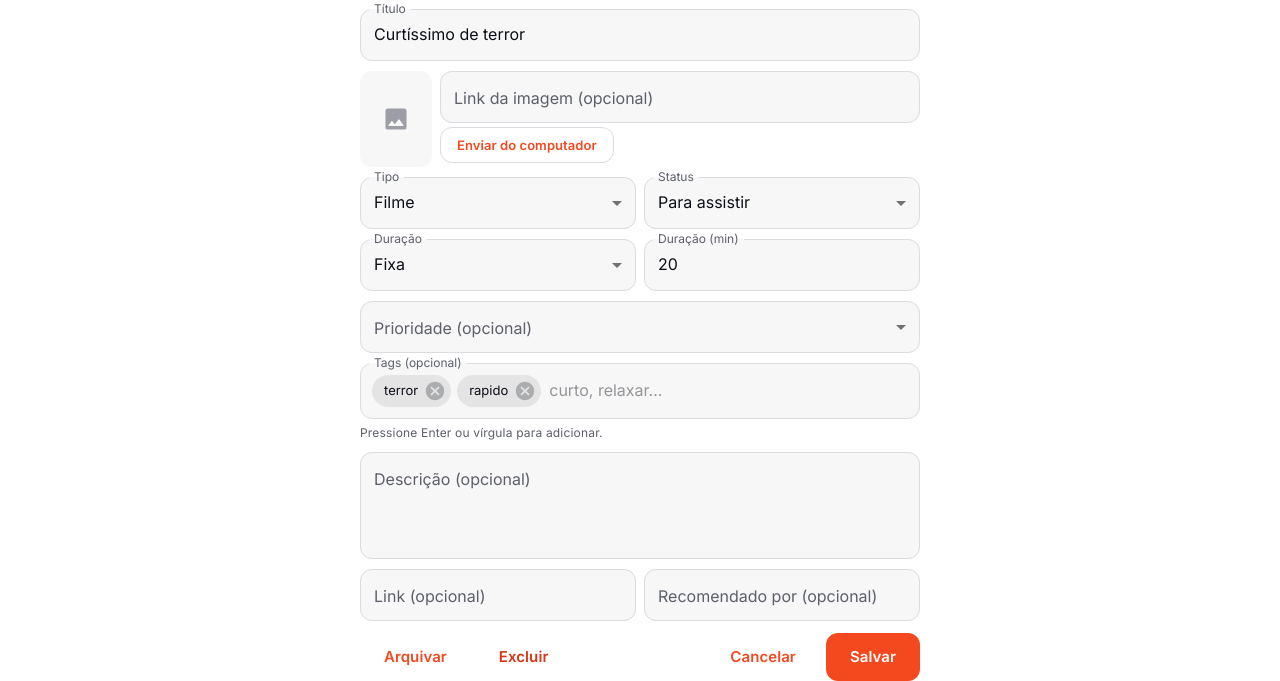
Test case: LeisureItemEditPage › does nothing when the confirmation is cancelled
(page scrolled)
Step 1. Click the button "Excluir" → (524, 657), box x1=475 y1=633 x2=572 y2=680
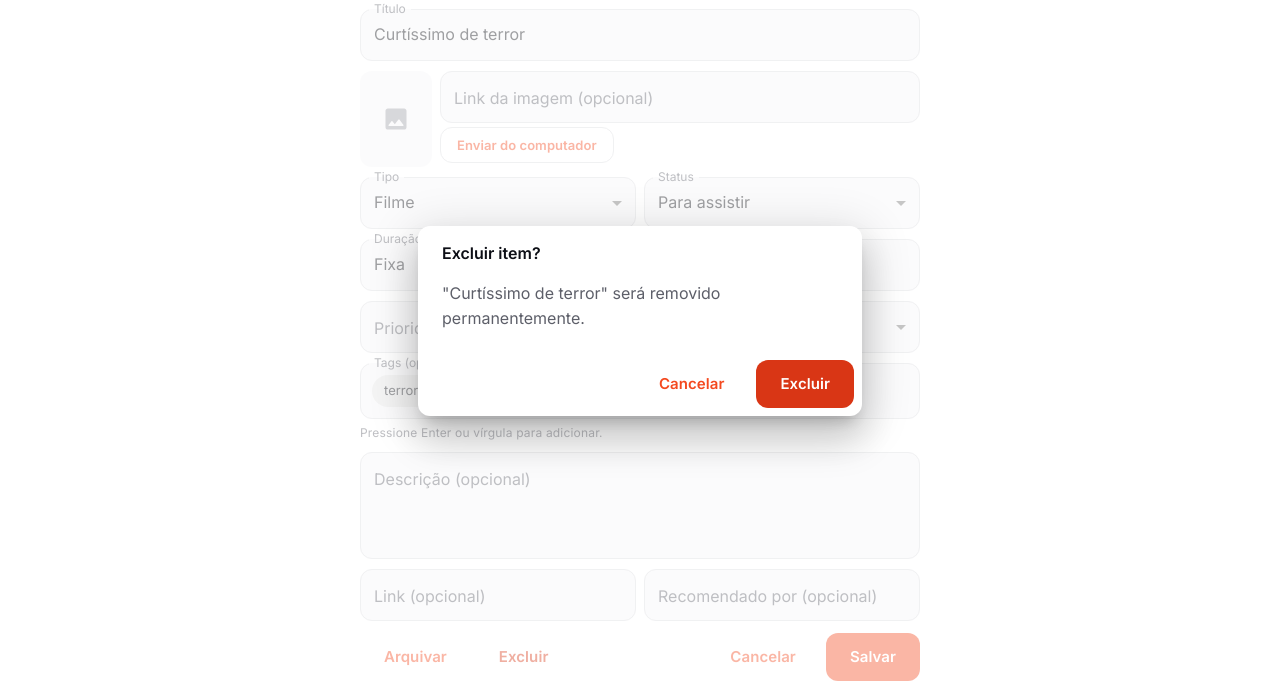
Step 2. Click the button "Cancelar" → (692, 384), box x1=635 y1=360 x2=748 y2=408
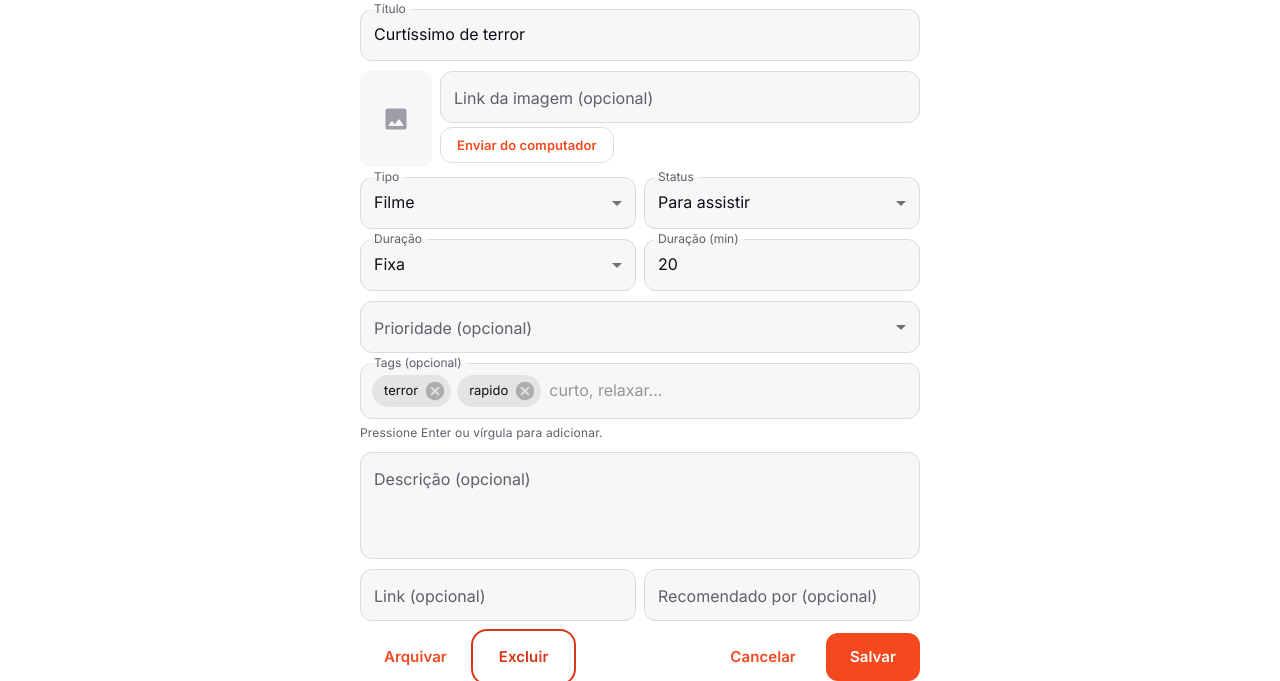
expect the dialog is gone: met
